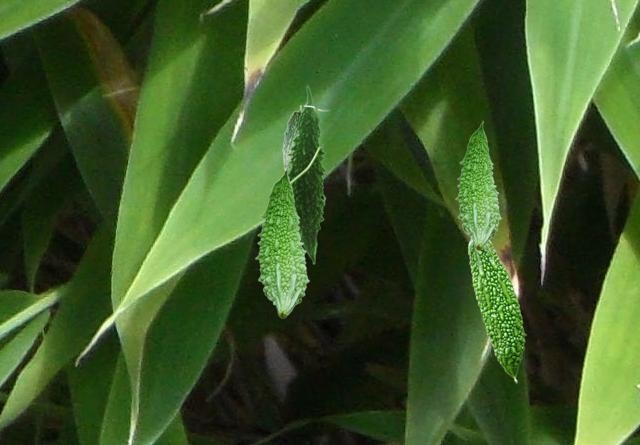ampalaya: (467, 239, 527, 383), (254, 166, 310, 319), (285, 84, 331, 265), (454, 120, 502, 250), (282, 105, 302, 169)
